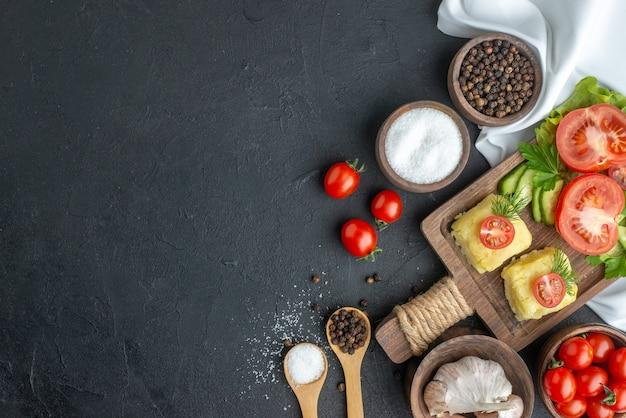tomato: (558, 90, 623, 263), (315, 159, 421, 258), (545, 328, 626, 415)
